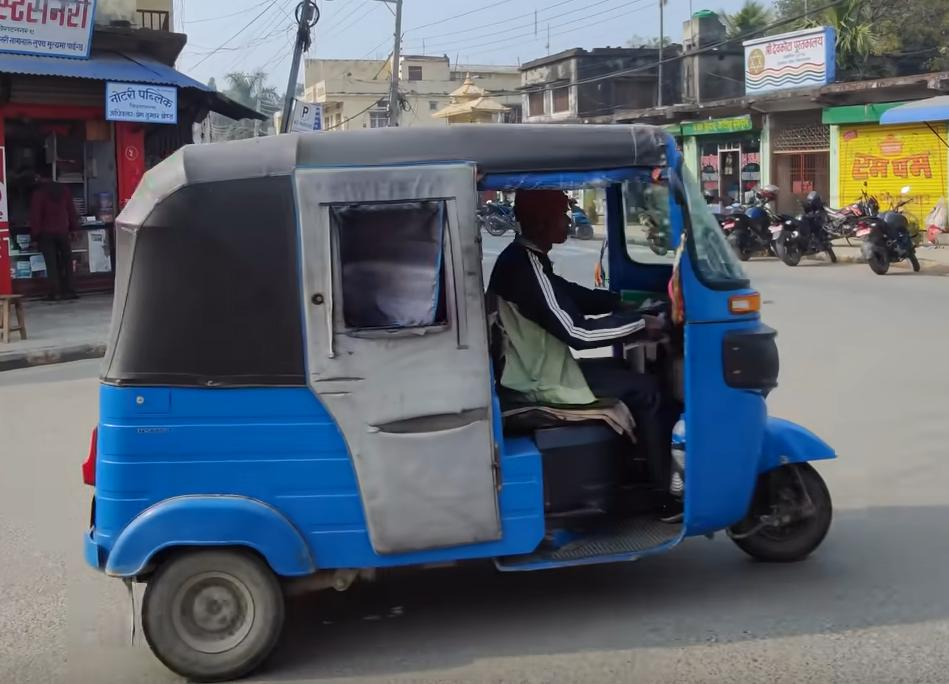auto_rickshaw: (83, 113, 836, 684)
bike: (760, 186, 843, 269), (850, 190, 924, 280), (720, 190, 779, 265)
